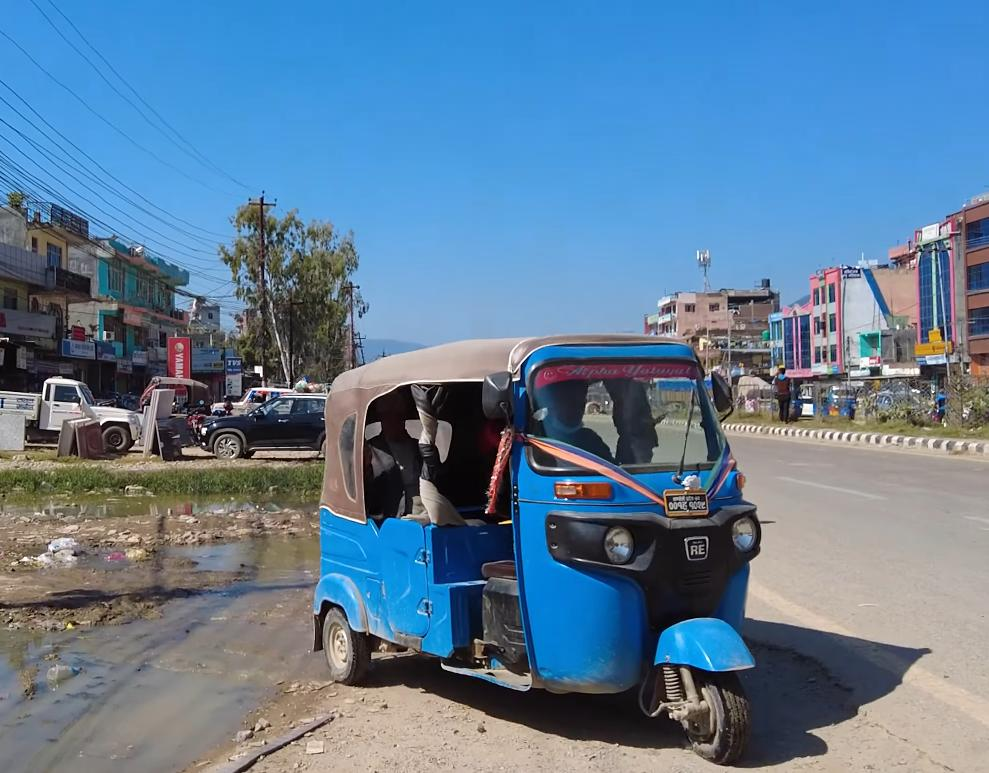auto_rickshaw: (311, 330, 770, 773)
car: (199, 389, 334, 464)
